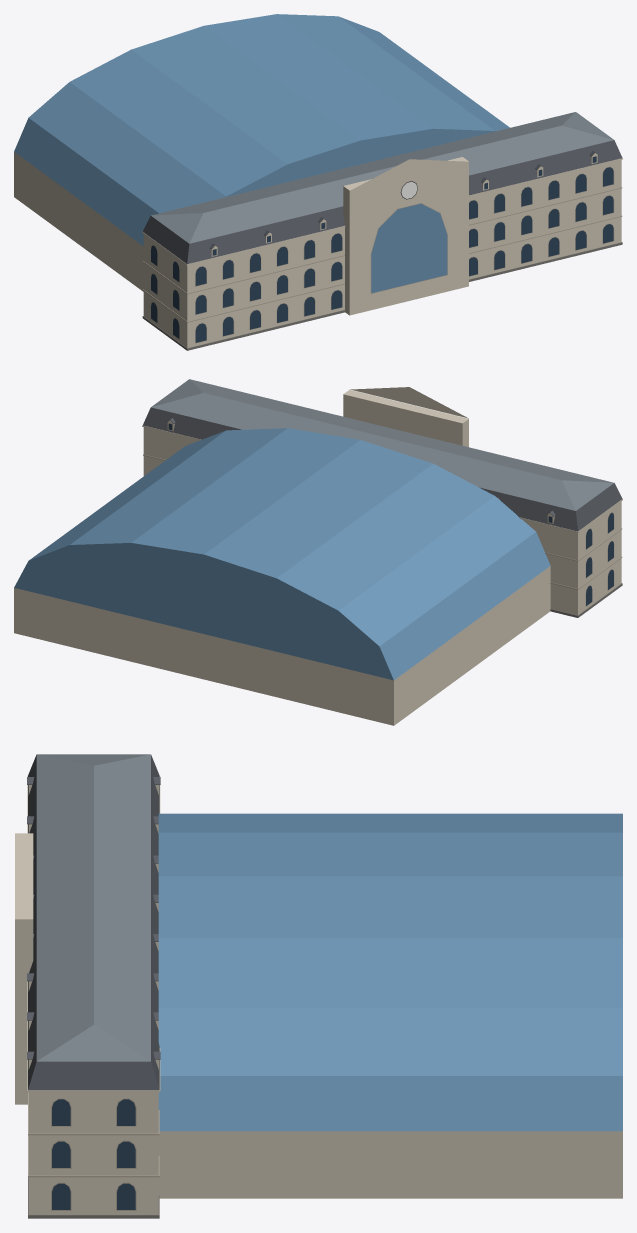
File: gare_ville.glb
3 views of the same model, one above another, from view 1: azimuth 30°, elevation 25°; view 2: azimuth 150°, elevation 25°; view 3: azimuth 270°, elevation 25° (orthographic). The views are drawn at different scales.
Visible parts, largest first — view 1: gare_ville; view 2: gare_ville; view 3: gare_ville.
Boxes of the visible parts, x1,y1,x2,y2 form: gare_ville: (14, 14, 622, 350); gare_ville: (14, 379, 622, 725); gare_ville: (15, 754, 622, 1218).
Bounding box in the file's own units: 80.3 × 25 × 65.6.
1 material, 1 textured.
